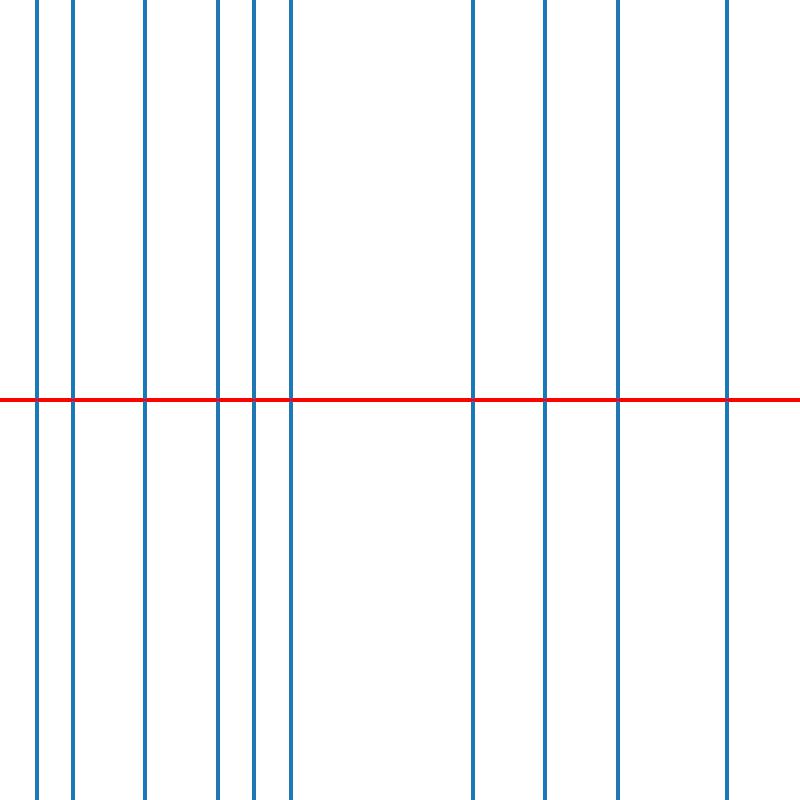root: (541, 396, 549, 404), (32, 396, 40, 404), (141, 396, 149, 404), (250, 396, 258, 404), (614, 396, 621, 404), (287, 396, 294, 404), (69, 396, 76, 404), (723, 396, 730, 404), (214, 396, 221, 404), (469, 396, 476, 404)
